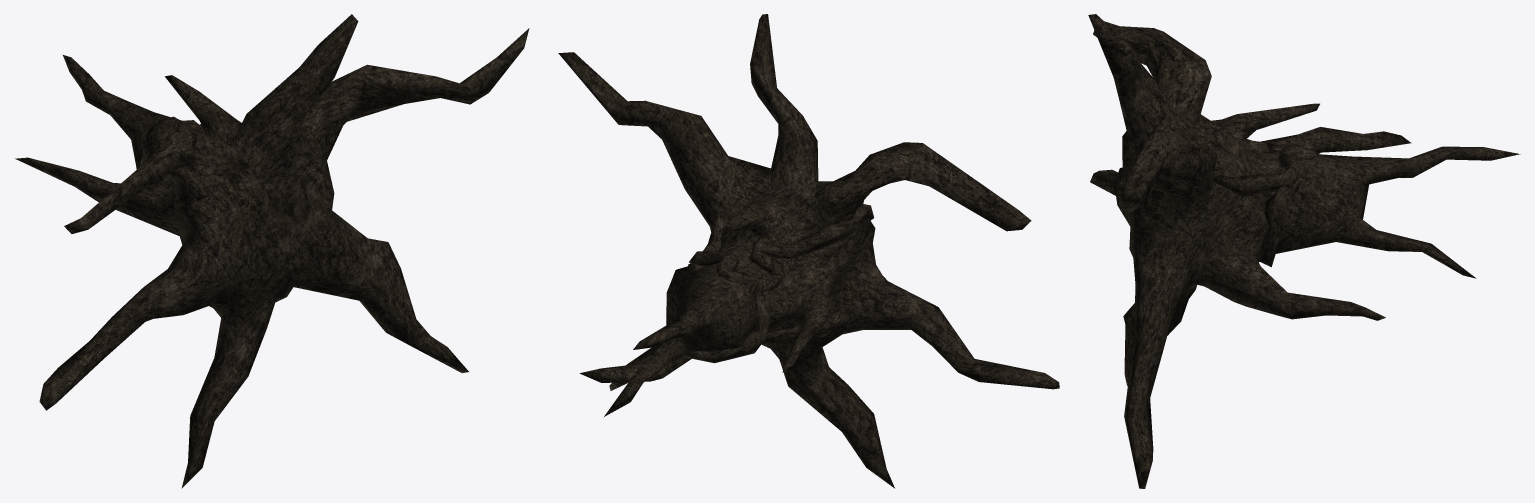
The model's file is MEP_BigTree.fbx.
3 renders of one model, left to right at view 1: azimuth 30°, elevation 25°; view 2: azimuth 150°, elevation 25°; view 3: azimuth 270°, elevation 25°, orthographic. The views are drawn at different scales.
Visible parts, largest first — view 1: MEP_Big_Tree; view 2: MEP_Big_Tree; view 3: MEP_Big_Tree.
Part boxes in pixels (left/top/right/bottom): MEP_Big_Tree: left=15, top=14, right=529, bottom=488; MEP_Big_Tree: left=558, top=14, right=1059, bottom=488; MEP_Big_Tree: left=1088, top=14, right=1520, bottom=488.
Size of the model in its own units: 82.09 by 69.56 by 60.88.
